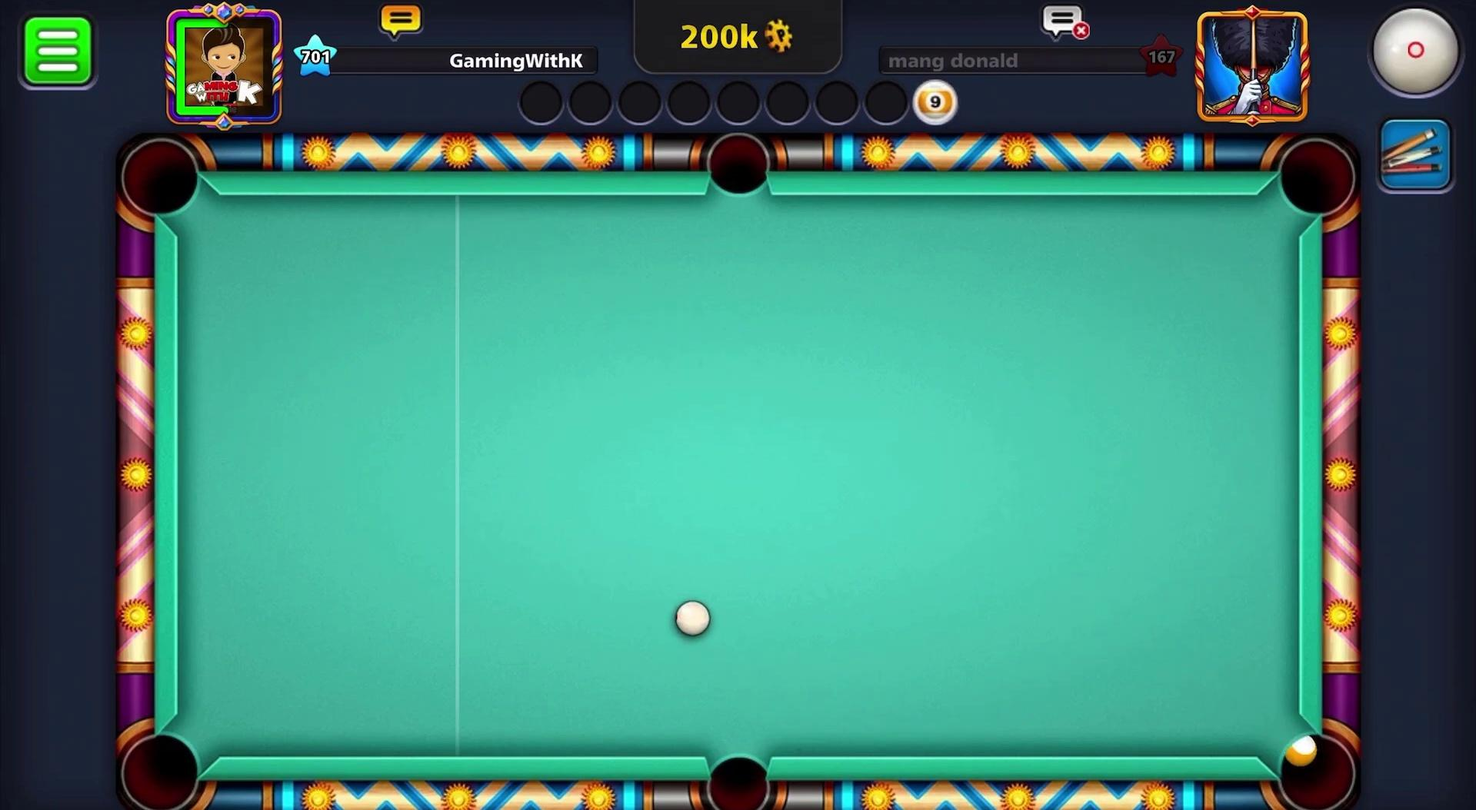Hole: (108, 129, 212, 229), (109, 715, 215, 809), (1268, 131, 1364, 229), (1265, 717, 1362, 809), (684, 741, 788, 809), (698, 129, 777, 207)
Play_Area: (177, 194, 1298, 759)
Spin: (1347, 0, 1475, 112)
White: (665, 598, 716, 641)
